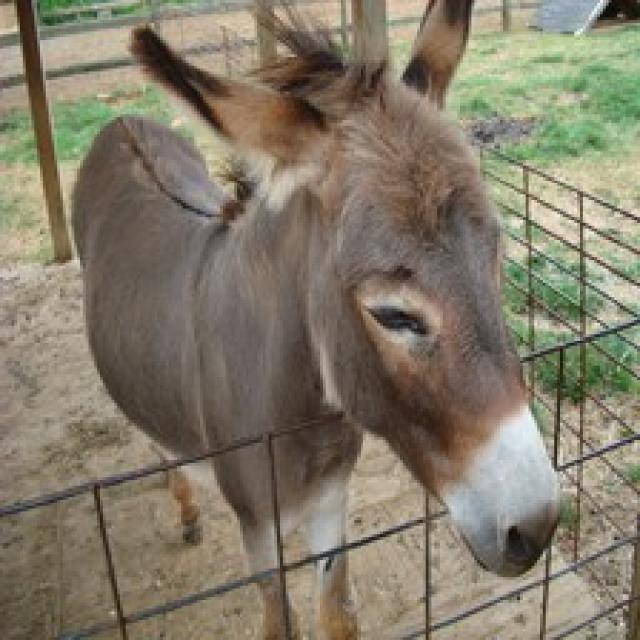Donkey: (39, 10, 574, 640)
